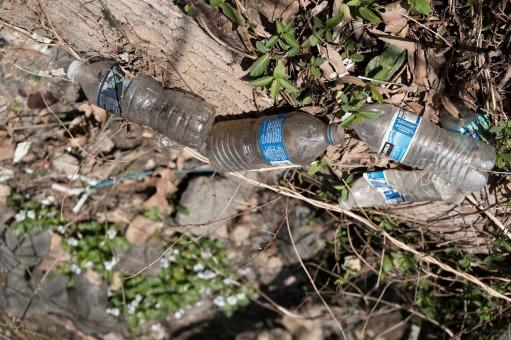Plastic: (67, 59, 216, 150), (352, 101, 497, 192), (209, 106, 346, 173), (342, 169, 480, 214)
